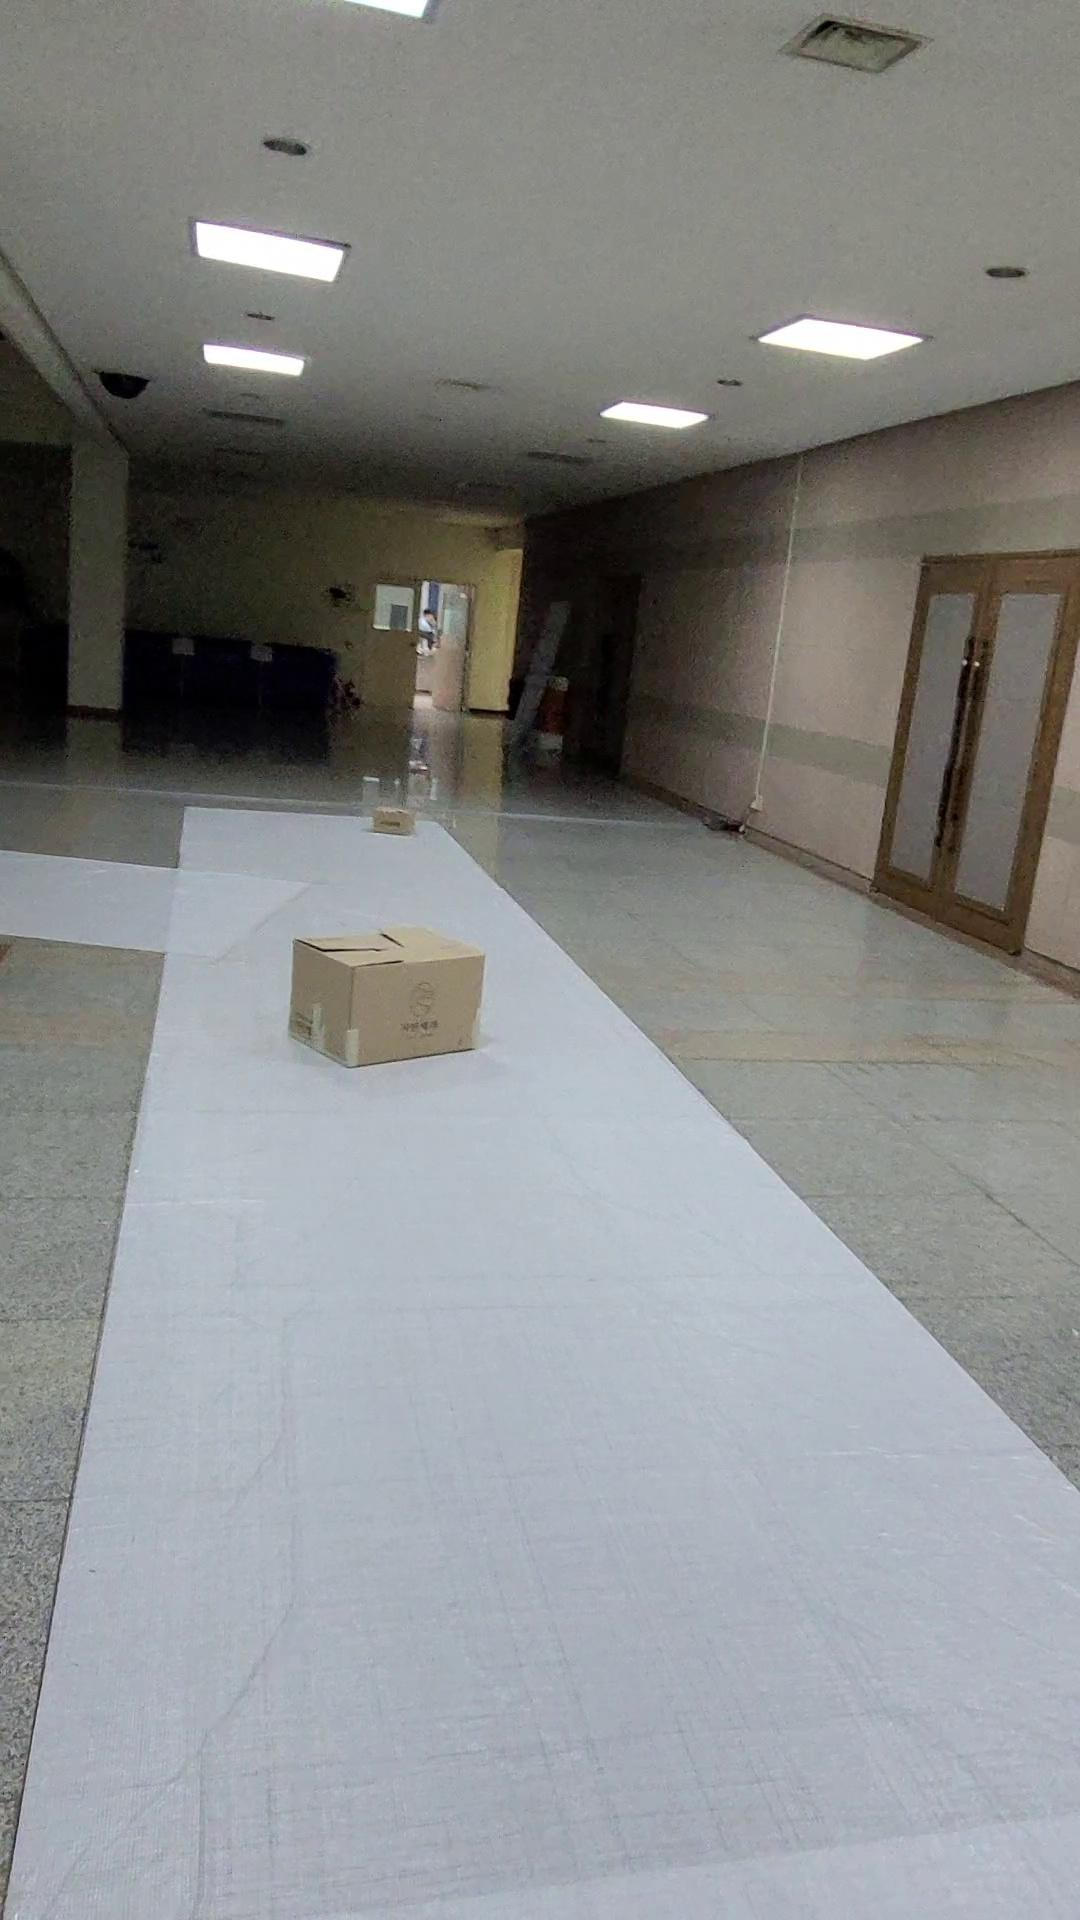Box: (268, 890, 545, 1122), (311, 767, 454, 870)
